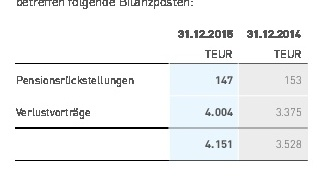table: (0, 0, 328, 185)
